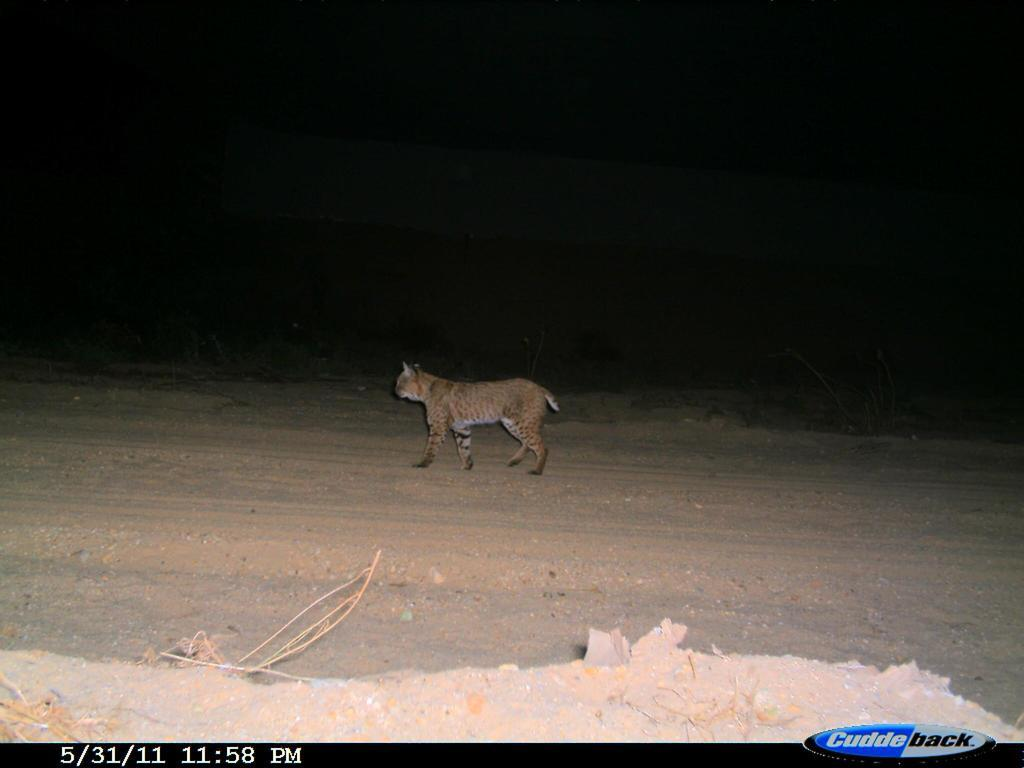bobcat: (392, 355, 562, 506)
